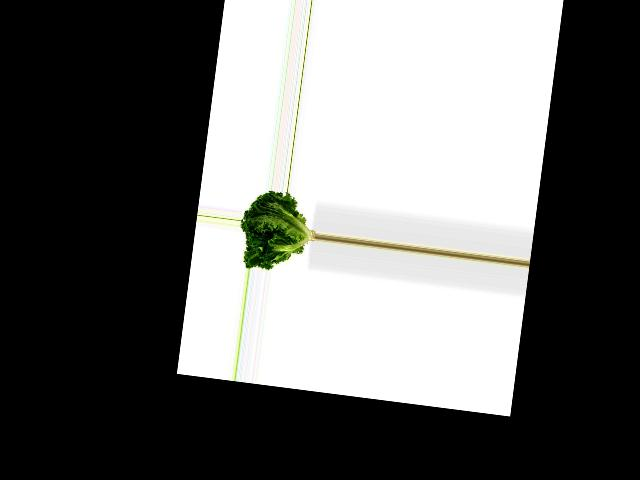lettuce: (236, 187, 320, 275)
